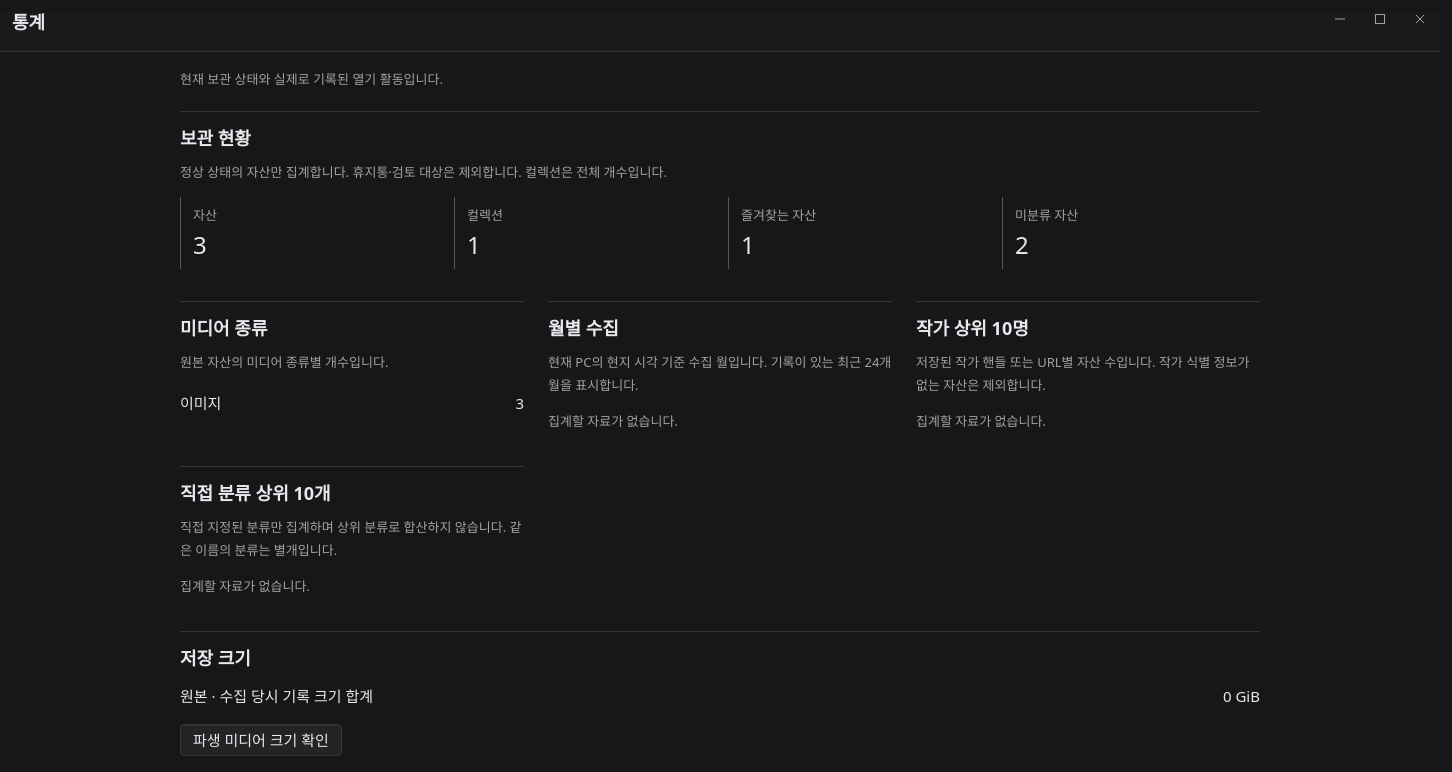
StatisticsPanel › lets the user retry a failed opt-in storage measurement and labels bounded results
This screenshot has width=1452, height=772.
Click the button "파생 미디어 크기 확인" at (261, 740), box [180,724,342,756]
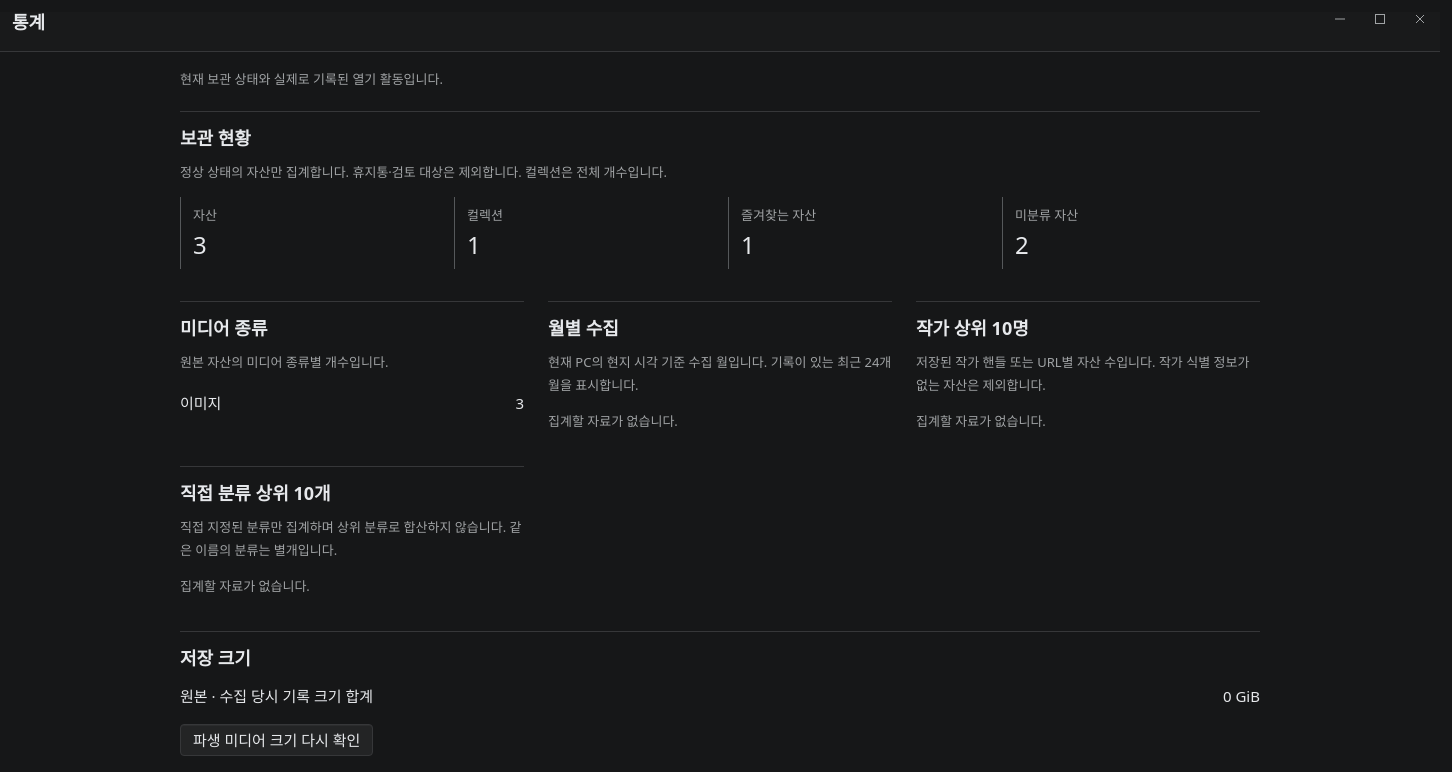
Click the button "파생 미디어 크기 다시 확인" at (277, 740), box [180,724,373,756]
(page scrolled)
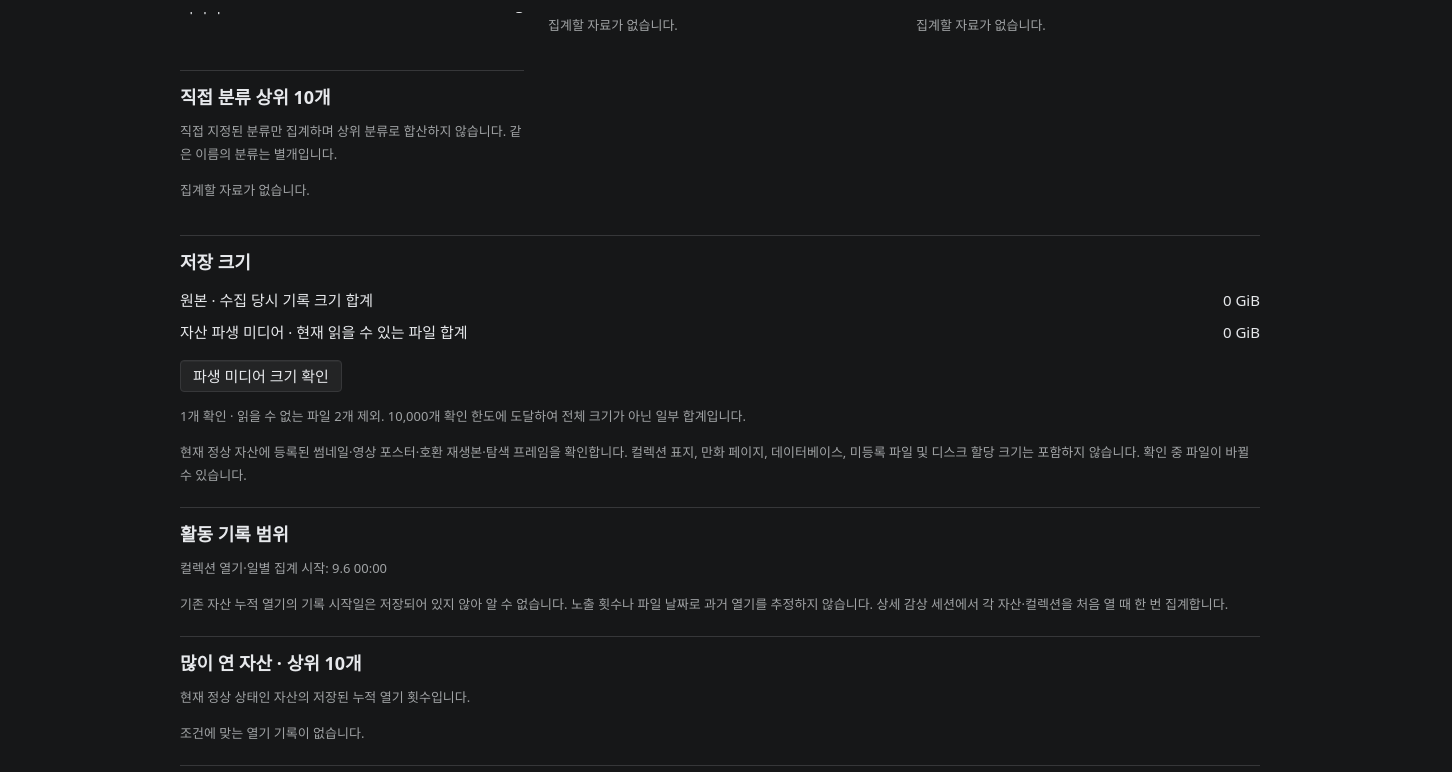
Expected: the text "전체 크기가 아닌 일부 합계" is shown, [384,407,746,425]
